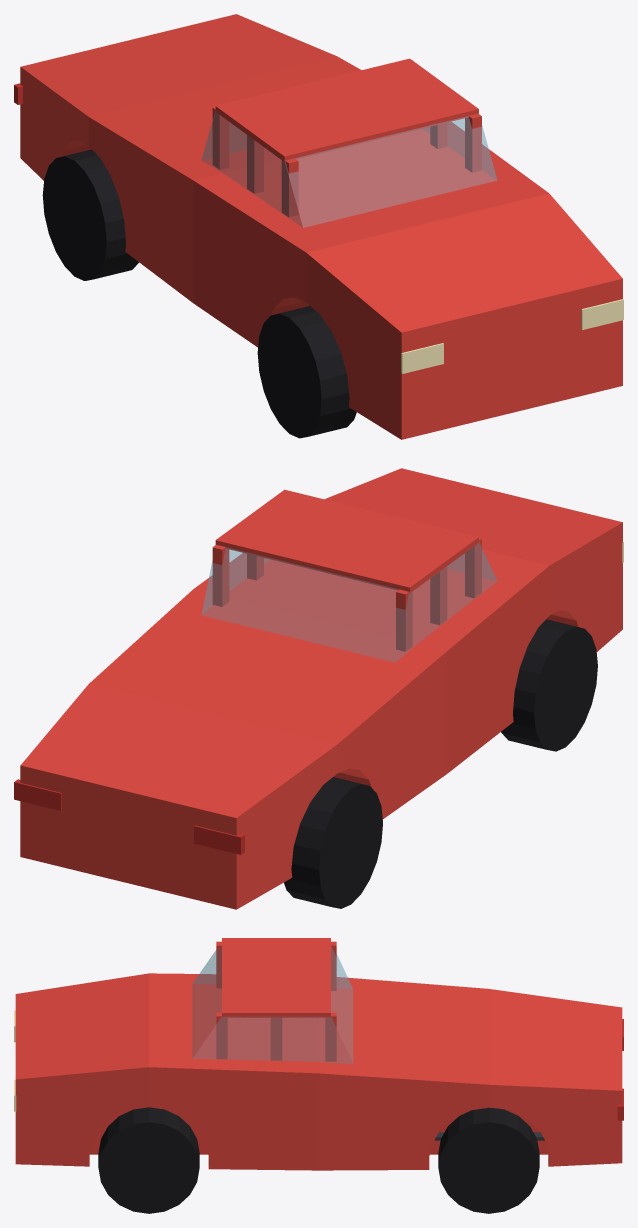
Rendered from pickup.glb.
3 renders of one model, top to bottom at view 1: azimuth 30°, elevation 25°; view 2: azimuth 150°, elevation 25°; view 3: azimuth 270°, elevation 25°, orthographic. The views are drawn at different scales.
Visible parts, largest first — view 1: body, cabin_glass, cabin_roof, wheel_FR_tyre, wheel_RR_tyre, pillar_front_L, pillar_rear_L, pillar_front_R, head_L, head_R, pillar_mid_L; view 2: body, cabin_glass, cabin_roof, wheel_RR_tyre, wheel_FR_tyre, pillar_rear_R, pillar_rear_L, tail_L, pillar_mid_L, tail_R, pillar_front_L; view 3: body, cabin_glass, wheel_FL_tyre, wheel_RL_tyre, cabin_roof, pillar_mid_R, pillar_rear_R, pillar_front_R.
Part boxes in pixels (left/top/right/bottom): body: left=20, top=14, right=622, bottom=439; cabin_glass: left=201, top=111, right=497, bottom=227; cabin_roof: left=215, top=58, right=478, bottom=162; wheel_FR_tyre: left=257, top=306, right=356, bottom=438; wheel_RR_tyre: left=42, top=149, right=138, bottom=280; pillar_front_L: left=281, top=158, right=298, bottom=217; pillar_rear_L: left=212, top=107, right=229, bottom=169; pillar_front_R: left=465, top=113, right=481, bottom=172; head_L: left=401, top=343, right=443, bottom=373; head_R: left=581, top=299, right=623, bottom=329; pillar_mid_L: left=247, top=135, right=263, bottom=193; body: left=20, top=468, right=622, bottom=909; cabin_glass: left=201, top=542, right=497, bottom=662; cabin_roof: left=215, top=489, right=478, bottom=593; wheel_RR_tyre: left=284, top=777, right=382, bottom=908; wheel_FR_tyre: left=501, top=619, right=597, bottom=751; pillar_rear_R: left=212, top=544, right=229, bottom=606; pillar_rear_L: left=396, top=589, right=412, bottom=651; tail_L: left=194, top=825, right=244, bottom=854; pillar_mid_L: left=430, top=566, right=447, bottom=625; tail_R: left=14, top=779, right=61, bottom=810; pillar_front_L: left=465, top=538, right=481, bottom=598; body: left=15, top=973, right=622, bottom=1170; cabin_glass: left=192, top=946, right=352, bottom=1063; wheel_FL_tyre: left=98, top=1107, right=199, bottom=1213; wheel_RL_tyre: left=438, top=1107, right=539, bottom=1213; cabin_roof: left=222, top=938, right=330, bottom=1017; pillar_mid_R: left=270, top=1017, right=282, bottom=1060; pillar_rear_R: left=325, top=1012, right=336, bottom=1061; pillar_front_R: left=216, top=1012, right=227, bottom=1059.
Bounding box in the file's own units: 2 × 1.61 × 4.82.
